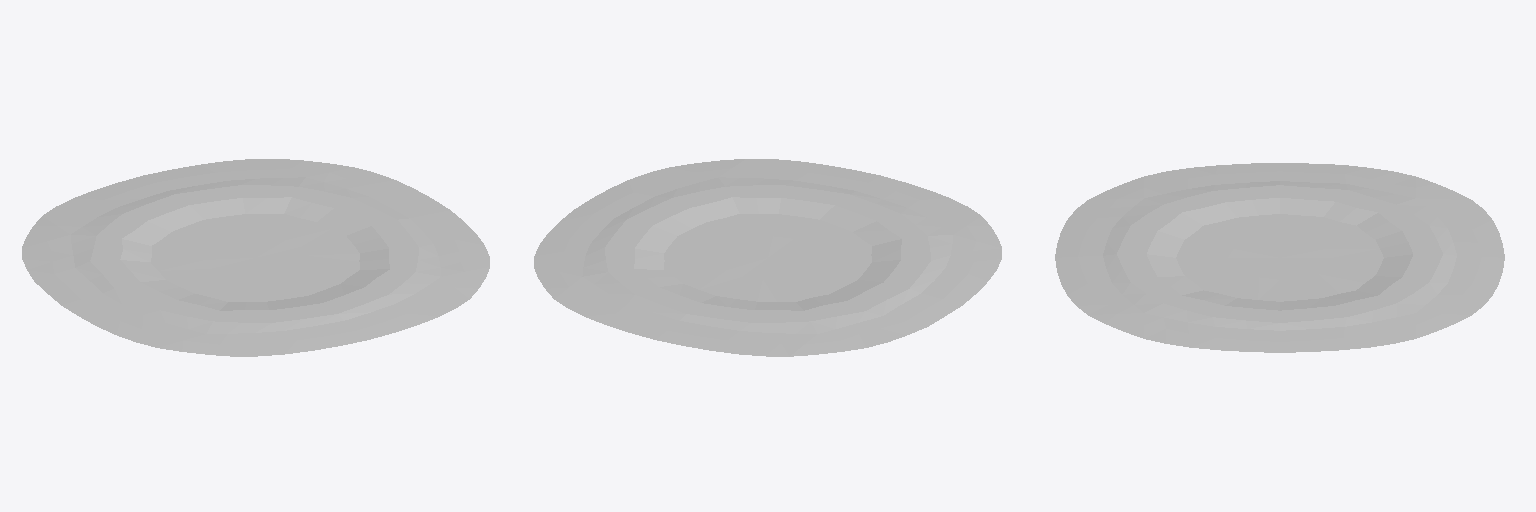
The model's file is OBJ_Plane_Grass.obj.
3 views of the same model, side by side, from view 1: azimuth 30°, elevation 25°; view 2: azimuth 150°, elevation 25°; view 3: azimuth 270°, elevation 25° (orthographic).
Visible parts, largest first — view 1: Plane.001_Plane.000; view 2: Plane.001_Plane.000; view 3: Plane.001_Plane.000.
Boxes of the visible parts, box(x1,y1,x2,y2) form: Plane.001_Plane.000: box(22, 159, 489, 356); Plane.001_Plane.000: box(534, 159, 1001, 356); Plane.001_Plane.000: box(1055, 163, 1504, 352).
Size of the model in its own units: 31.73 by 0.3039 by 31.73.